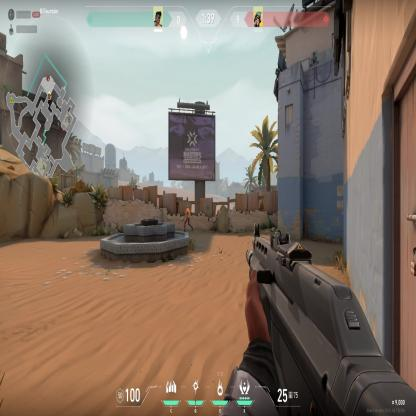enemy: (184, 203, 194, 232)
